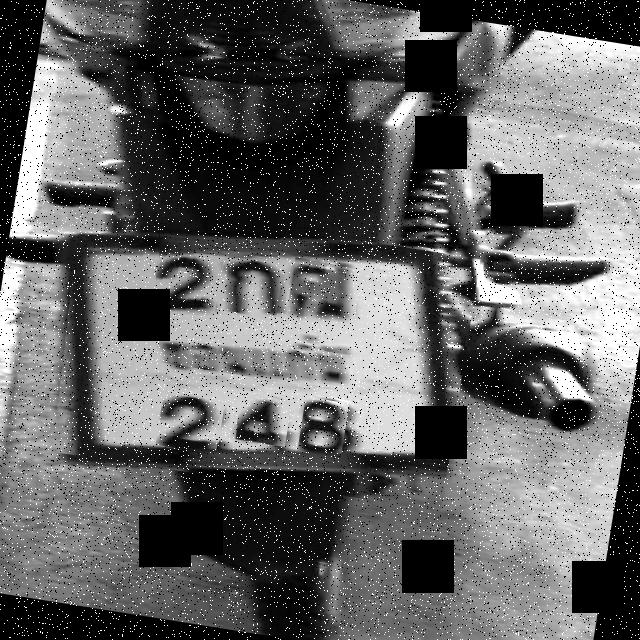letters: (286, 258, 366, 328), (151, 248, 224, 318), (156, 384, 228, 454), (220, 252, 285, 320), (296, 396, 349, 458), (235, 392, 292, 447)
license-plate: (76, 246, 453, 465)
province: (144, 317, 364, 394)
